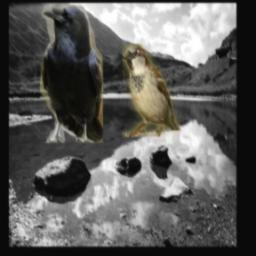Crow: (41, 4, 104, 143)
Sparrow: (124, 44, 181, 137)
